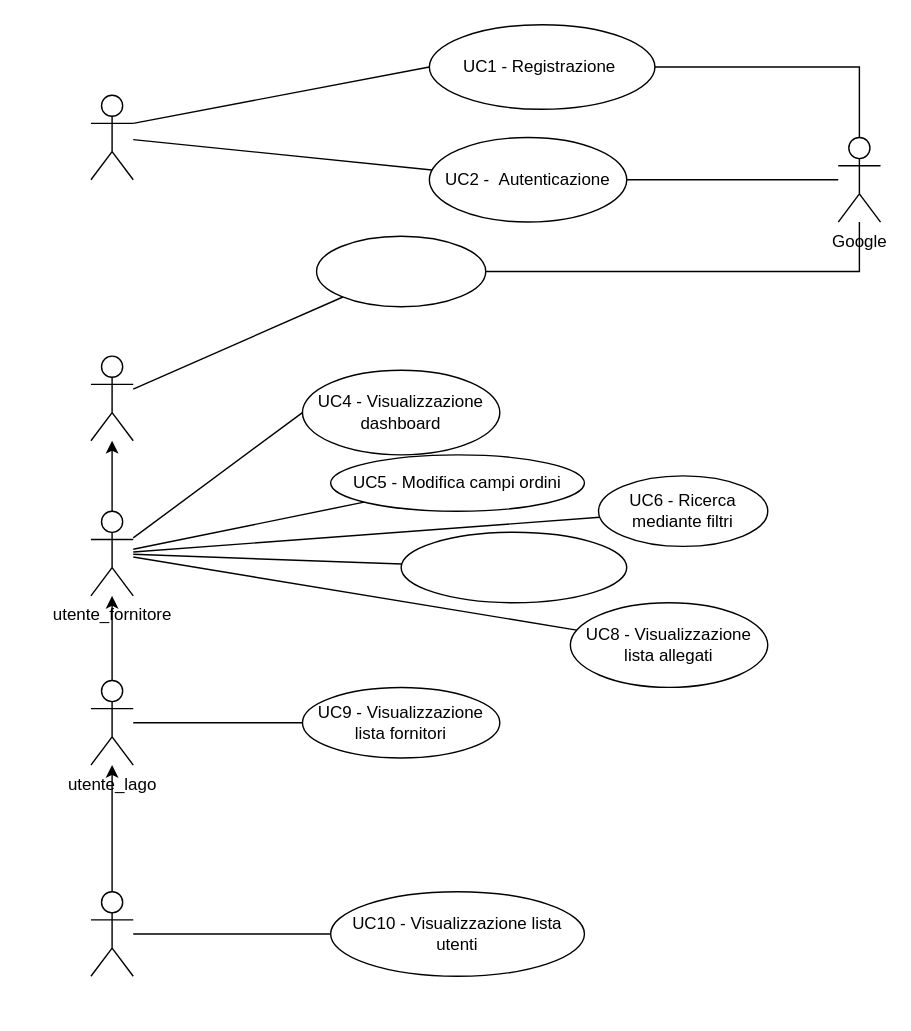
Image size: 911x1031. Some labels were removed from this diagram. Each missing label, with the centre of its shape:
admin_lago: (x=111, y=933)
UC3 - Logout: (x=400, y=271)
UC7 - Modifica multipla di celle: (x=513, y=567)
utente_non_autenticato: (x=111, y=137)
utente_non_autorizzato: (x=111, y=398)
